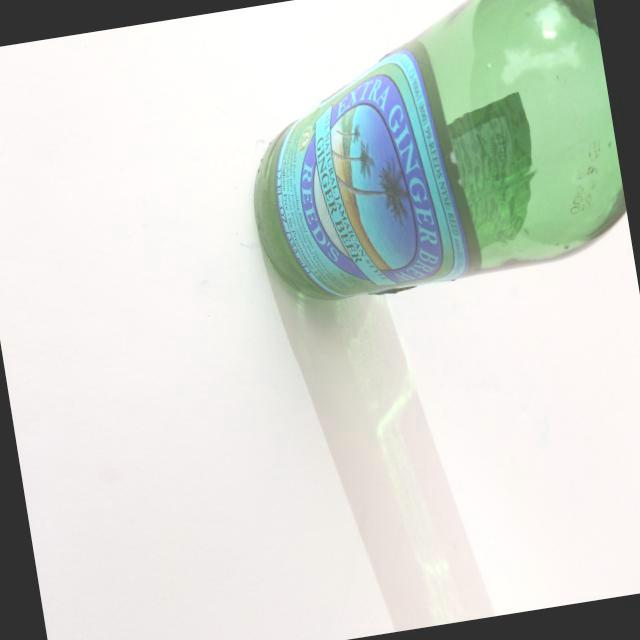glass: (223, 0, 634, 317)
